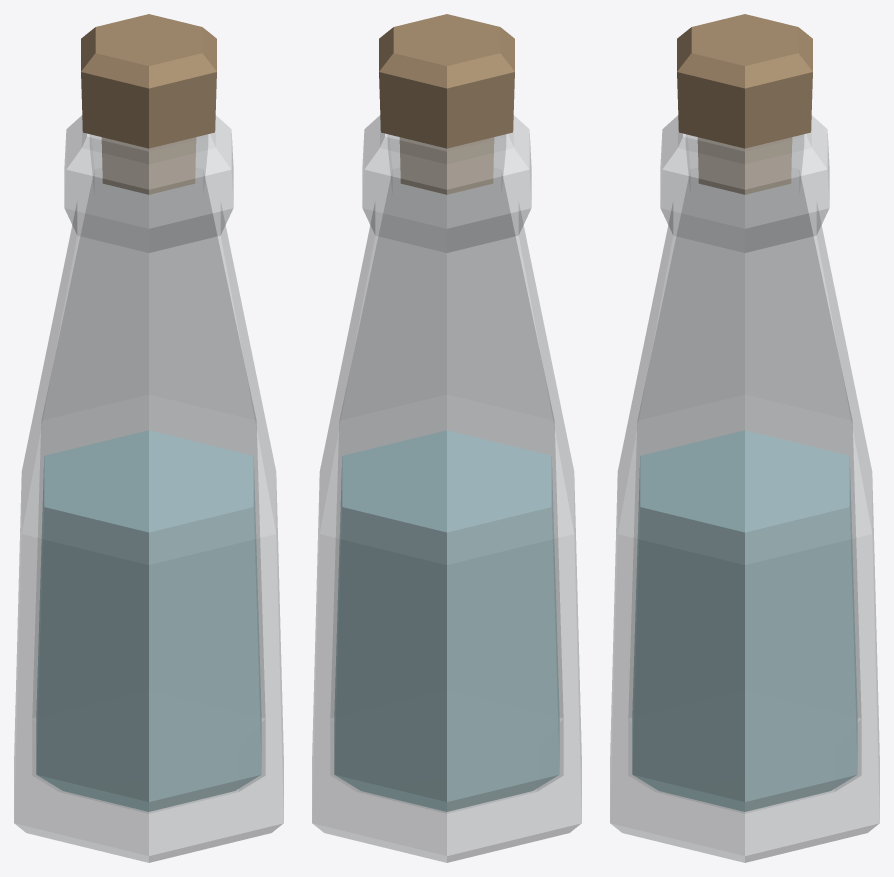
File: water-carafe-6f1774.glb
3 renders of one model, left to right at view 1: azimuth 30°, elevation 25°; view 2: azimuth 150°, elevation 25°; view 3: azimuth 270°, elevation 25°, orthographic.
Parts seen in each view (by area): view 1: glass-vessel, water, stopper-cork; view 2: glass-vessel, water, stopper-cork; view 3: glass-vessel, water, stopper-cork.
Part boxes in pixels (x1=…): glass-vessel: x1=14, y1=115, x2=283, y2=862; water: x1=36, y1=430, x2=261, y2=811; stopper-cork: x1=81, y1=14, x2=216, y2=194; glass-vessel: x1=312, y1=115, x2=581, y2=862; water: x1=334, y1=430, x2=559, y2=811; stopper-cork: x1=379, y1=14, x2=514, y2=194; glass-vessel: x1=610, y1=115, x2=879, y2=862; water: x1=632, y1=430, x2=857, y2=811; stopper-cork: x1=677, y1=14, x2=812, y2=194.
Bounding box in the file's own units: 0.111 × 0.3 × 0.0961.
